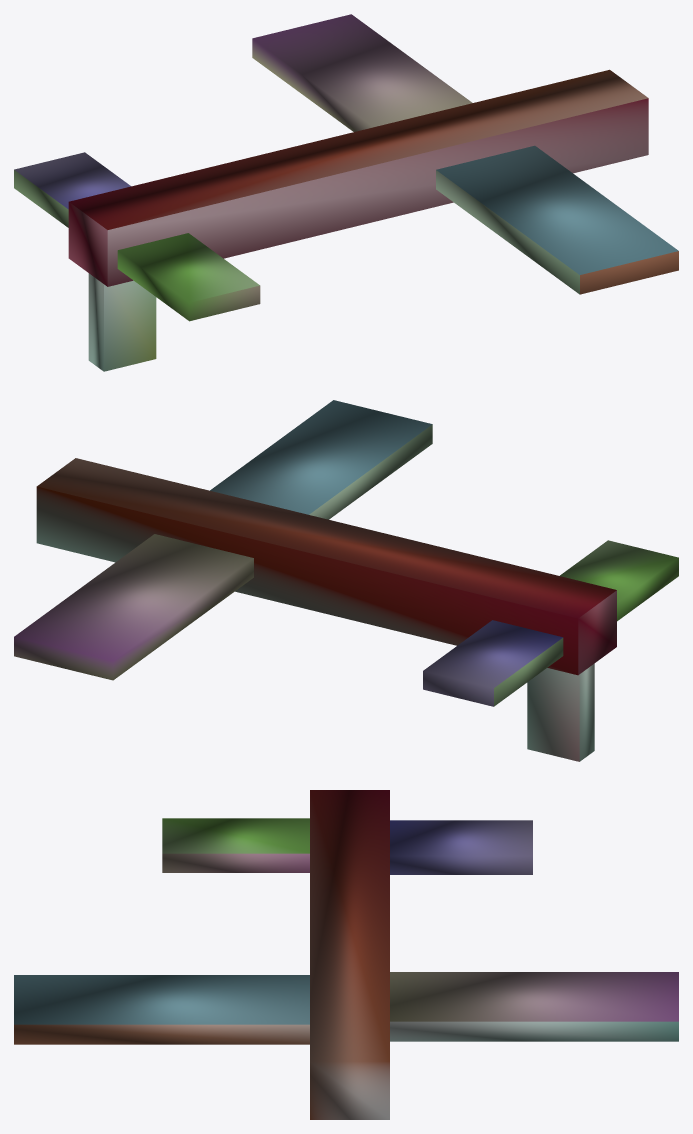
The picture shows the model from 3 angles, top to bottom: view 1: azimuth 30°, elevation 25°; view 2: azimuth 150°, elevation 25°; view 3: azimuth 270°, elevation 25°; orthographic projection. The views are drawn at different scales.
Visible parts, largest first — view 1: Cube_005; view 2: Cube_005; view 3: Cube_005.
Boxes of the visible parts, x1,y1,x2,y2 form: Cube_005: [14, 14, 678, 371]; Cube_005: [14, 400, 678, 761]; Cube_005: [14, 790, 678, 1119].
Size of the model in its own units: 4.69 by 1.27 by 4.85.
